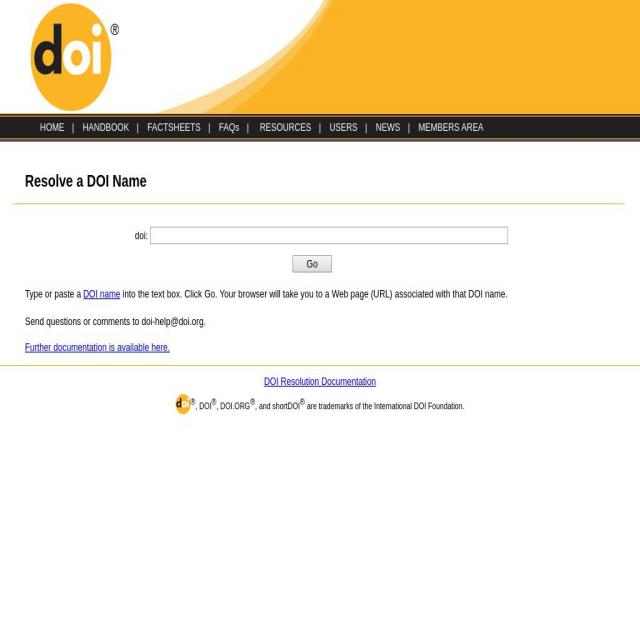field: (129, 217, 520, 278)
navigation-links: (32, 113, 490, 137)
